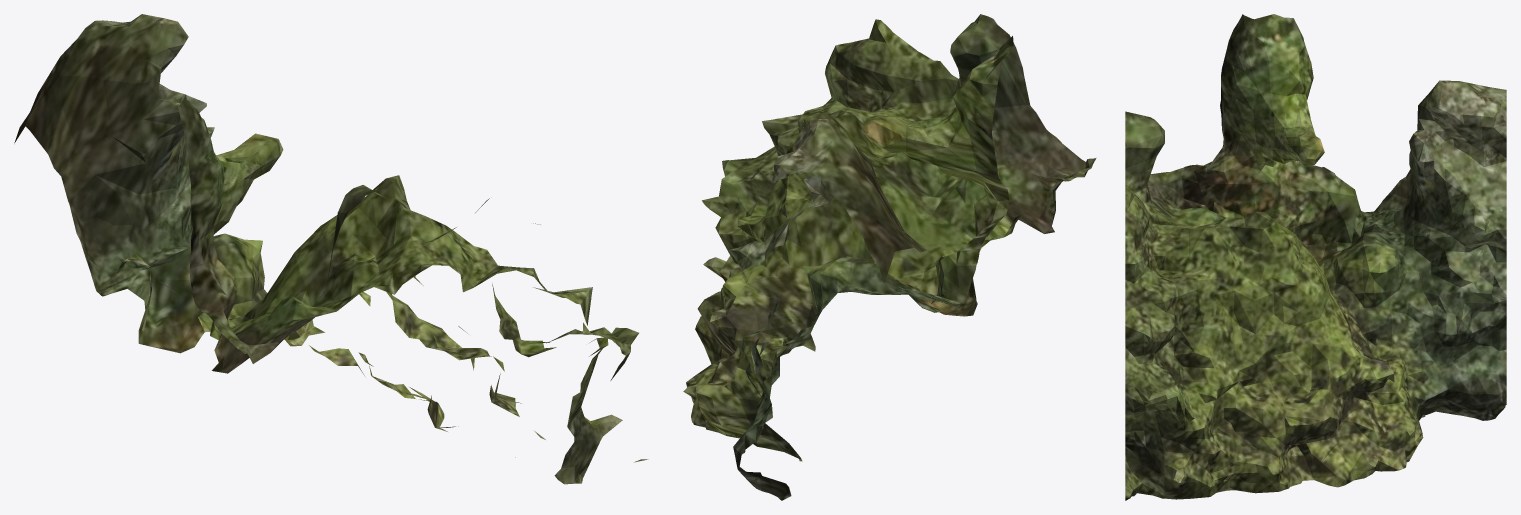
The picture shows the model from 3 angles, left to right: view 1: azimuth 30°, elevation 25°; view 2: azimuth 150°, elevation 25°; view 3: azimuth 270°, elevation 25°; orthographic projection. The views are drawn at different scales.
Bounding box in the file's own units: 2.91 × 2.95 × 2.95.
4 materials, 4 textured.
